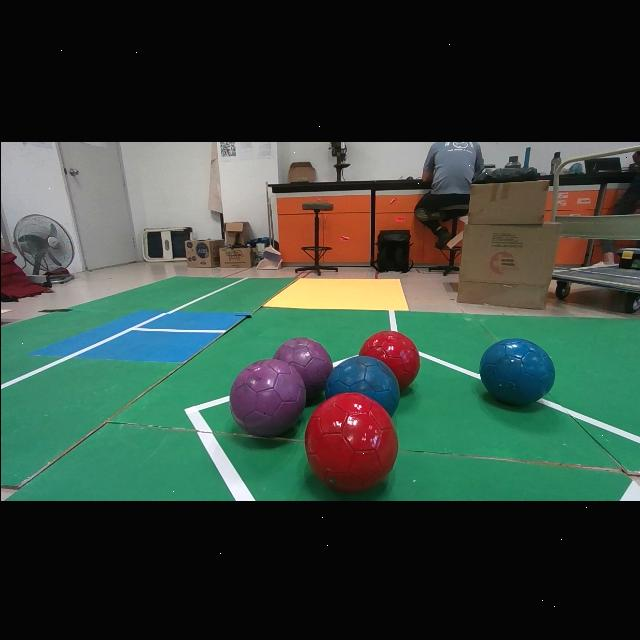B: (479, 337, 554, 404), (325, 354, 399, 414)
P: (229, 358, 305, 435), (272, 336, 332, 397)
R: (304, 391, 397, 491), (358, 329, 419, 389)
